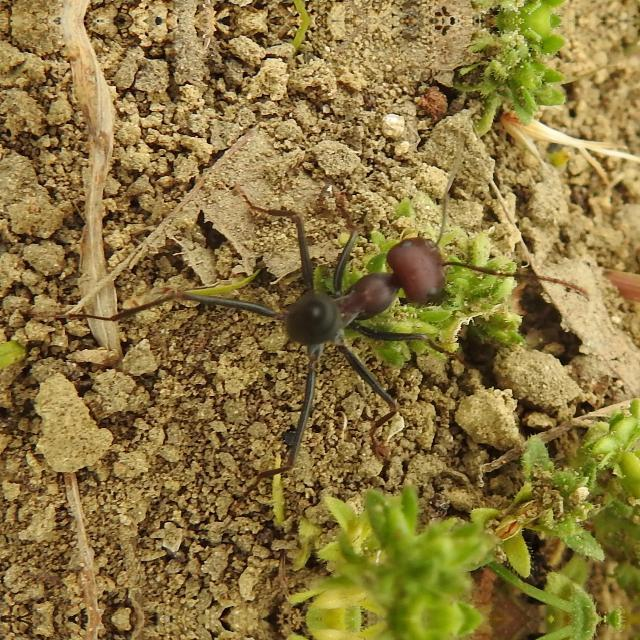Cataglyphis: (252, 206, 484, 384)
